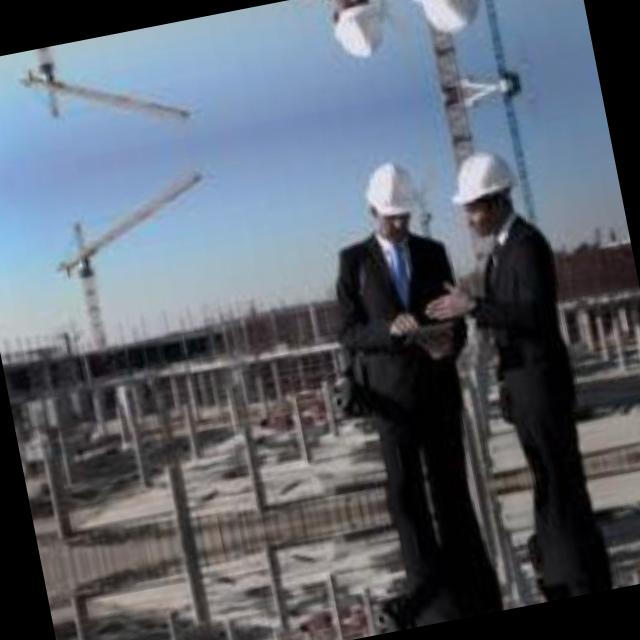helmet: (435, 144, 522, 240), (352, 150, 431, 248), (318, 0, 396, 71), (399, 0, 485, 45)
